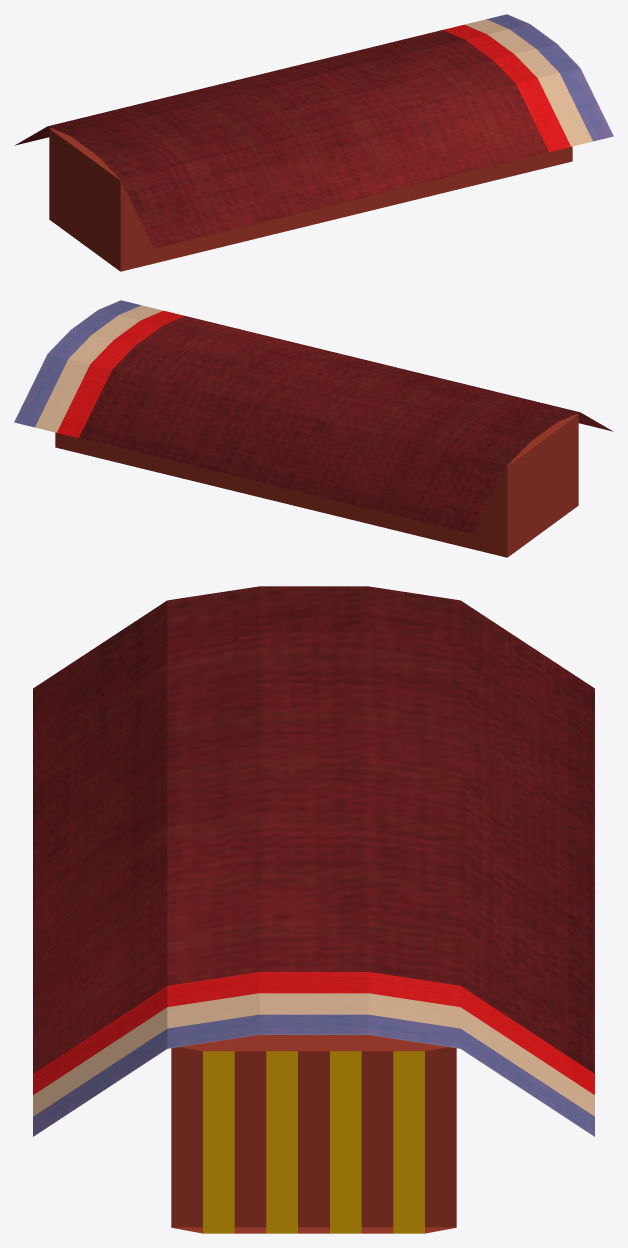
File: Tent.fbx
3 renders of one model, top to bottom at view 1: azimuth 30°, elevation 25°; view 2: azimuth 150°, elevation 25°; view 3: azimuth 270°, elevation 25°, orthographic. The views are drawn at different scales.
Visible parts, largest first — view 1: Plane, Cube; view 2: Plane, Cube; view 3: Plane, Cube.
Boxes of the visible parts, left/top/right/bottom form: Plane: left=15, top=14, right=613, bottom=248; Cube: left=49, top=128, right=572, bottom=271; Plane: left=14, top=300, right=612, bottom=534; Cube: left=55, top=414, right=578, bottom=557; Plane: left=33, top=586, right=594, bottom=1136; Cube: left=171, top=1035, right=456, bottom=1233.
Size of the model in its own units: 1506 by 312 by 797.
